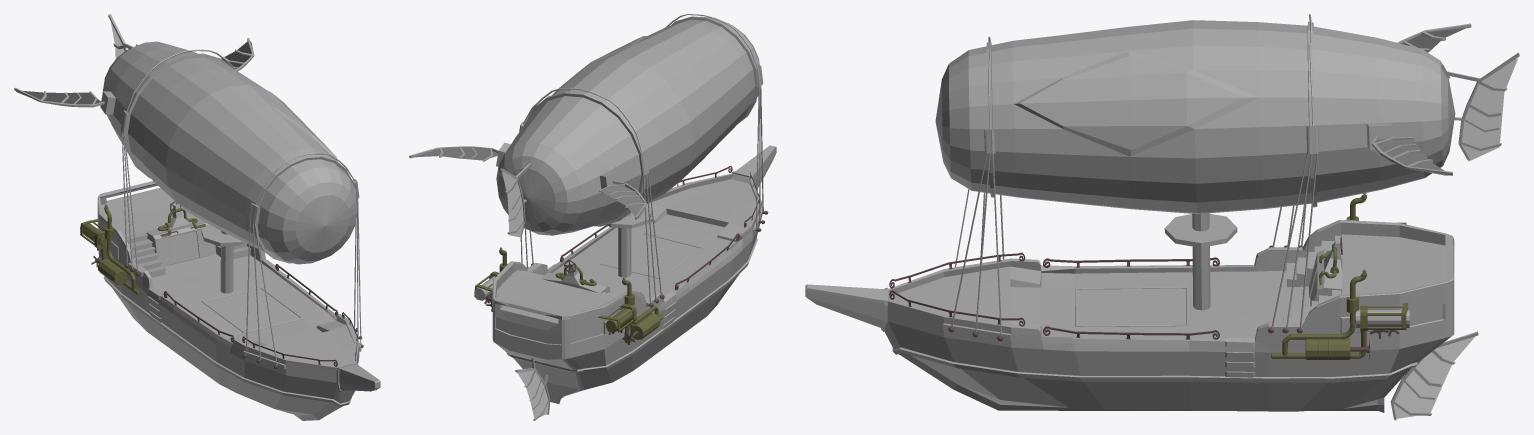
Rendered from ship update.fbx.
The picture shows the model from 3 angles, left to right: view 1: azimuth 30°, elevation 25°; view 2: azimuth 150°, elevation 25°; view 3: azimuth 270°, elevation 25°; orthographic projection. The views are drawn at different scales.
Parts seen in each view (by area): view 1: Pirate_Ship; view 2: Pirate_Ship; view 3: Pirate_Ship.
Part boxes in pixels (left/top/right/bottom): Pirate_Ship: left=14, top=14, right=380, bottom=420; Pirate_Ship: left=409, top=14, right=776, bottom=420; Pirate_Ship: left=805, top=14, right=1519, bottom=420.
Bounding box in the file's own units: 61.58 × 75.65 × 124.
